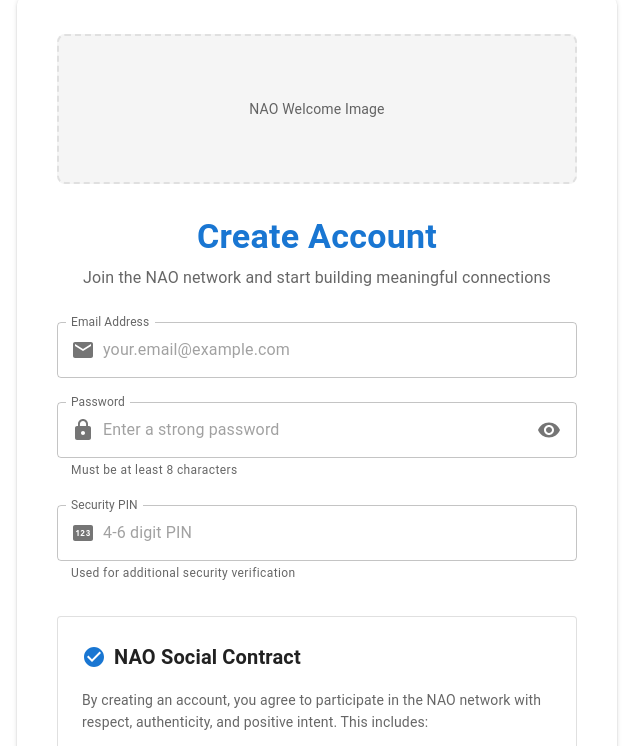
Scenario: SignUpPage › shows validation error for short password
In the password field labelled "Password": (314, 430) [103,402,524,458], type "short"
(page scrolled)
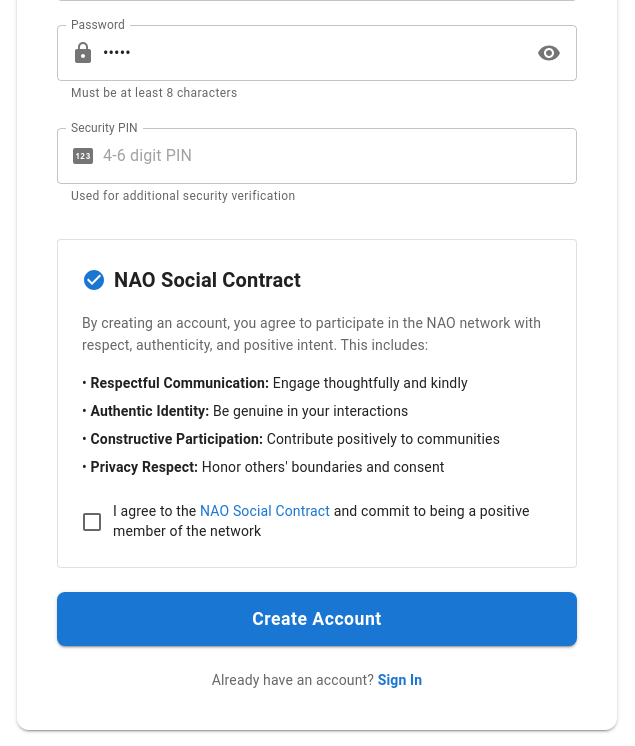
Click the button "Create Account": (317, 619) [57,592,577,646]
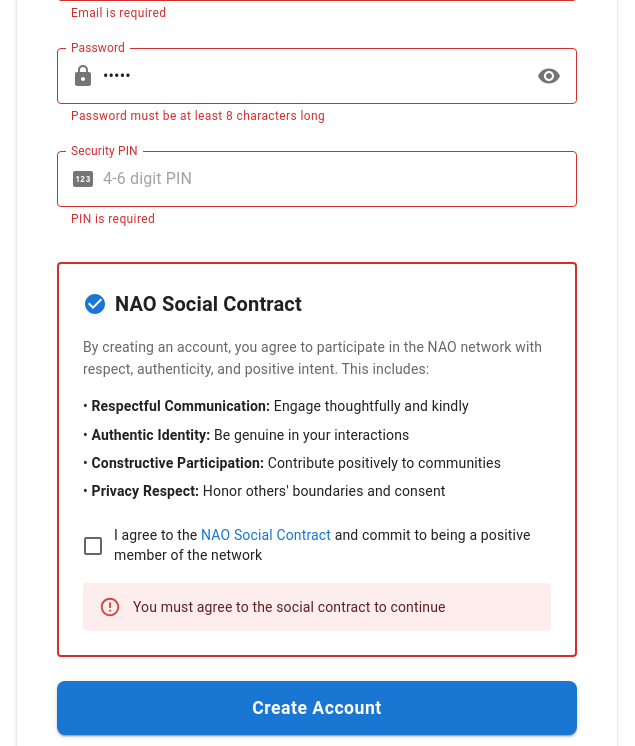
Expected: the text "Password must be at least 8 characters long" is shown, [71,109,325,123]
